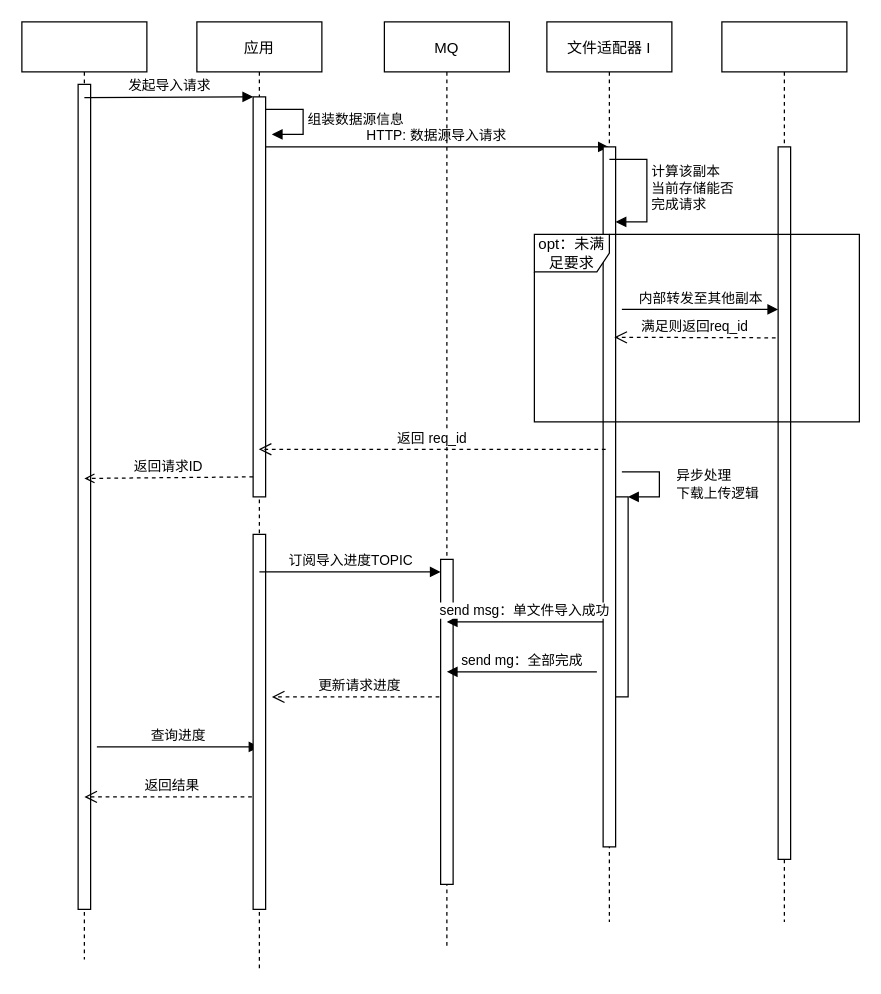
Image size: 881x994. Some labels were removed from this diagram. Here are the shapes that lost their labels. From the top down, the box of each, then its label:
(21, 21, 147, 959): 前端
(721, 21, 847, 922): 文件适配器 N...
